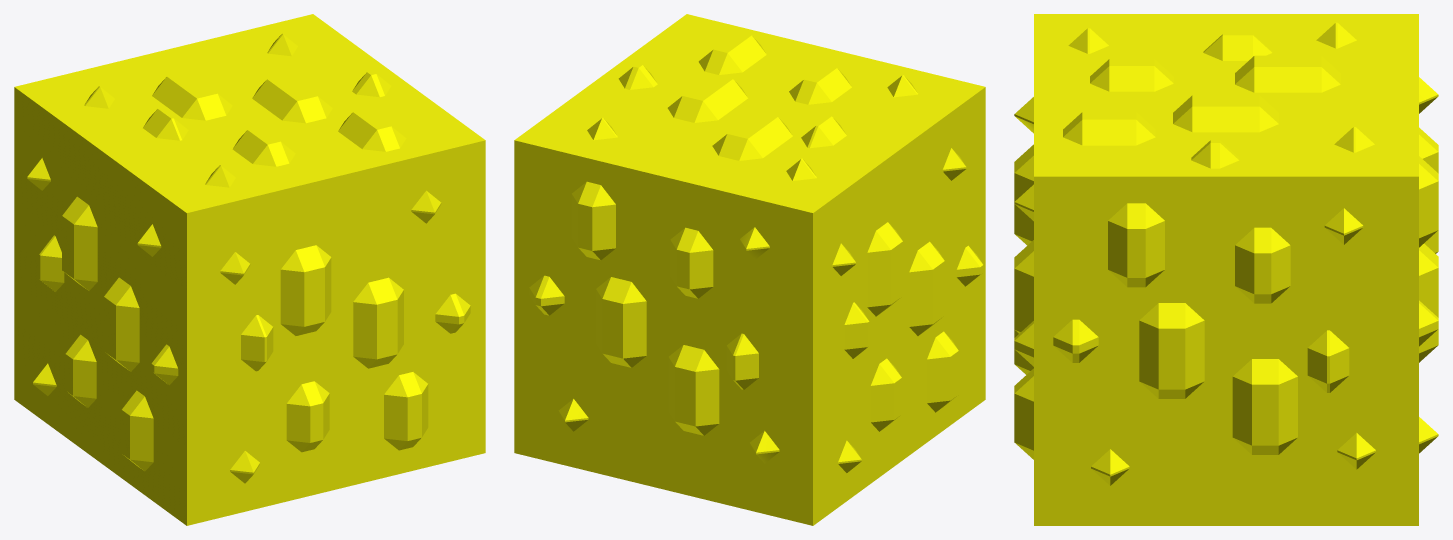
File: Block_Crystal.glb
The picture shows the model from 3 angles, left to right: view 1: azimuth 30°, elevation 25°; view 2: azimuth 150°, elevation 25°; view 3: azimuth 270°, elevation 25°; orthographic projection. The views are drawn at different scales.
Visible parts, largest first — view 1: Block_Crystal; view 2: Block_Crystal; view 3: Block_Crystal.
Boxes of the visible parts, x1,y1,x2,y2 form: Block_Crystal: [14, 14, 485, 525]; Block_Crystal: [514, 14, 985, 525]; Block_Crystal: [1014, 14, 1438, 525].
Bounding box in the file's own units: 2.2 × 2.2 × 2.2.
Materials: 1 (1 with a texture image).
